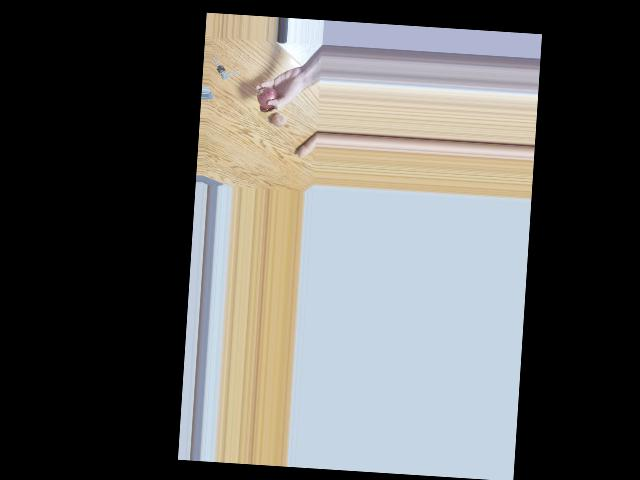onion: (257, 85, 277, 108)
